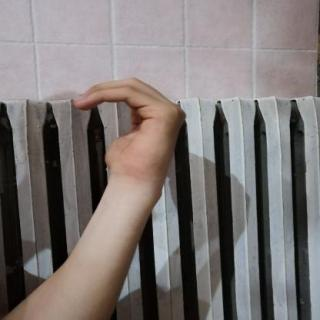HAA: (56, 70, 206, 195)
